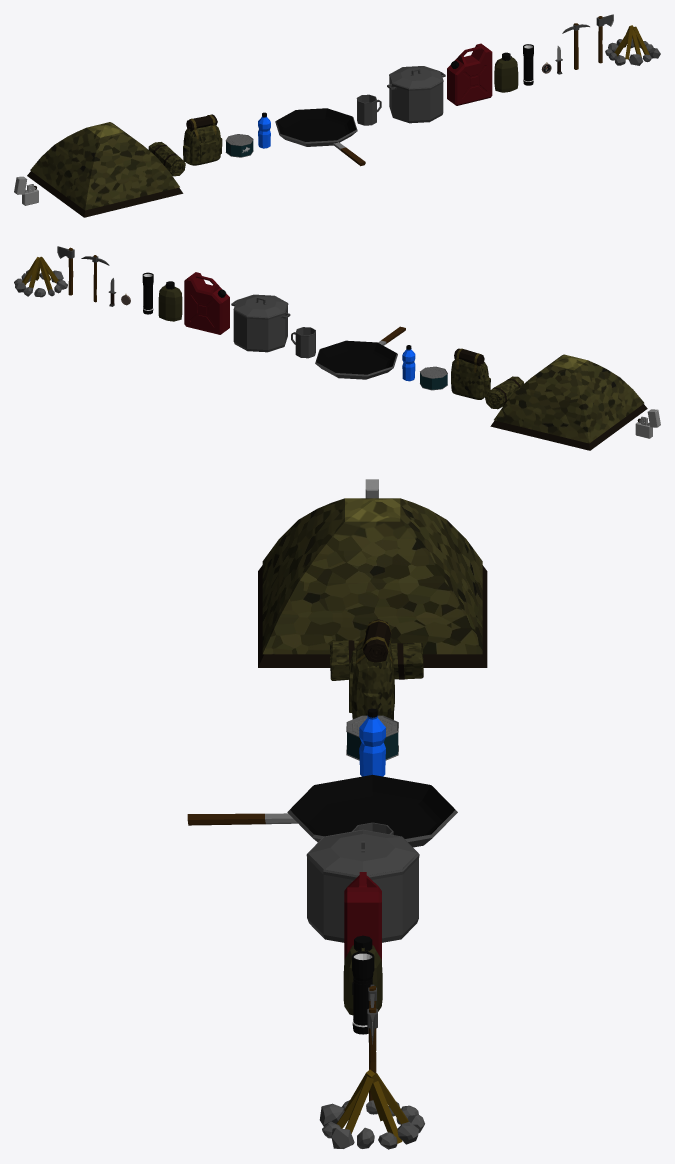
Rendered from Asset Pack.fbx.
The picture shows the model from 3 angles, top to bottom: view 1: azimuth 30°, elevation 25°; view 2: azimuth 150°, elevation 25°; view 3: azimuth 270°, elevation 25°; orthographic projection. The views are drawn at different scales.
Visible parts, largest first — view 1: Tent, Pan, Gas Can, Pot, Backpack, Campfire, up, Canteen, Sleeping Bag, Cup, Canned Food, Flashlight (+3 smaller); view 2: Tent, Pan, Gas Can, Pot, Backpack, Campfire, up, Canteen, Sleeping Bag, Cup, Canned Food, Flashlight (+2 smaller); view 3: Tent, Pan, Pot, Campfire, Backpack, up, Gas Can, Sleeping Bag, Water Bottle, Flashlight, Canteen, Canned Food.
Boxes of the visible parts, left/top/right/bottom form: Tent: left=27, top=122, right=183, bottom=217; Pan: left=275, top=108, right=365, bottom=166; Gas Can: left=447, top=43, right=492, bottom=105; Pot: left=387, top=66, right=445, bottom=123; Backpack: left=183, top=114, right=222, bottom=165; Campfire: left=605, top=25, right=660, bottom=65; up: left=390, top=66, right=442, bottom=88; Canteen: left=494, top=52, right=518, bottom=92; Sleeping Bag: left=148, top=142, right=185, bottom=176; Cup: left=356, top=94, right=381, bottom=125; Canned Food: left=225, top=134, right=253, bottom=157; Flashlight: left=523, top=44, right=533, bottom=85; Tent: left=490, top=354, right=647, bottom=450; Pan: left=315, top=326, right=405, bottom=379; Gas Can: left=184, top=272, right=229, bottom=334; Pot: left=231, top=294, right=290, bottom=352; Backpack: left=451, top=348, right=490, bottom=399; Campfire: left=14, top=256, right=67, bottom=297; up: left=234, top=295, right=287, bottom=317; Canteen: left=158, top=281, right=182, bottom=321; Sleeping Bag: left=484, top=376, right=523, bottom=409; Cup: left=291, top=327, right=315, bottom=358; Canned Food: left=420, top=366, right=447, bottom=390; Flashlight: left=142, top=272, right=153, bottom=314; Tent: left=258, top=498, right=487, bottom=667; Pan: left=187, top=774, right=457, bottom=847; Pot: left=306, top=829, right=419, bottom=942; Campfire: left=319, top=1069, right=424, bottom=1149; Backpack: left=349, top=619, right=394, bottom=719; up: left=308, top=830, right=417, bottom=875; Gas Can: left=344, top=872, right=381, bottom=961; Sleeping Bag: left=330, top=640, right=423, bottom=680; Water Bottle: left=359, top=708, right=385, bottom=776; Flashlight: left=352, top=951, right=374, bottom=1034; Canteen: left=343, top=935, right=382, bottom=1015; Canned Food: left=346, top=715, right=398, bottom=760.
Bounding box in the file's own units: 582 × 52.88 × 118.
Materials: 30 (7 with a texture image).
